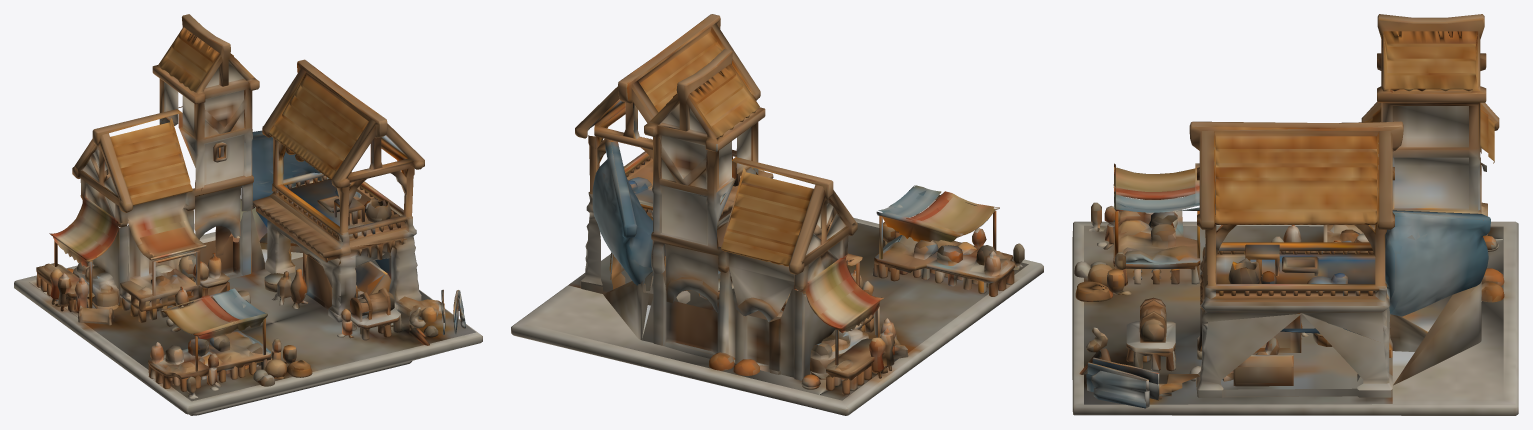
File: pasar_1.glb
The picture shows the model from 3 angles, left to right: view 1: azimuth 30°, elevation 25°; view 2: azimuth 150°, elevation 25°; view 3: azimuth 270°, elevation 25°; orthographic projection. The views are drawn at different scales.
Visible parts, largest first — view 1: tripo_node_656f9fd4; view 2: tripo_node_656f9fd4; view 3: tripo_node_656f9fd4.
Boxes of the visible parts, box(x1,y1,x2,y2) form: tripo_node_656f9fd4: box(14, 14, 482, 415); tripo_node_656f9fd4: box(511, 14, 1043, 415); tripo_node_656f9fd4: box(1072, 14, 1518, 415).
Bounding box in the file's own units: 1 × 0.7794 × 0.9918.
1 material, 1 textured.
